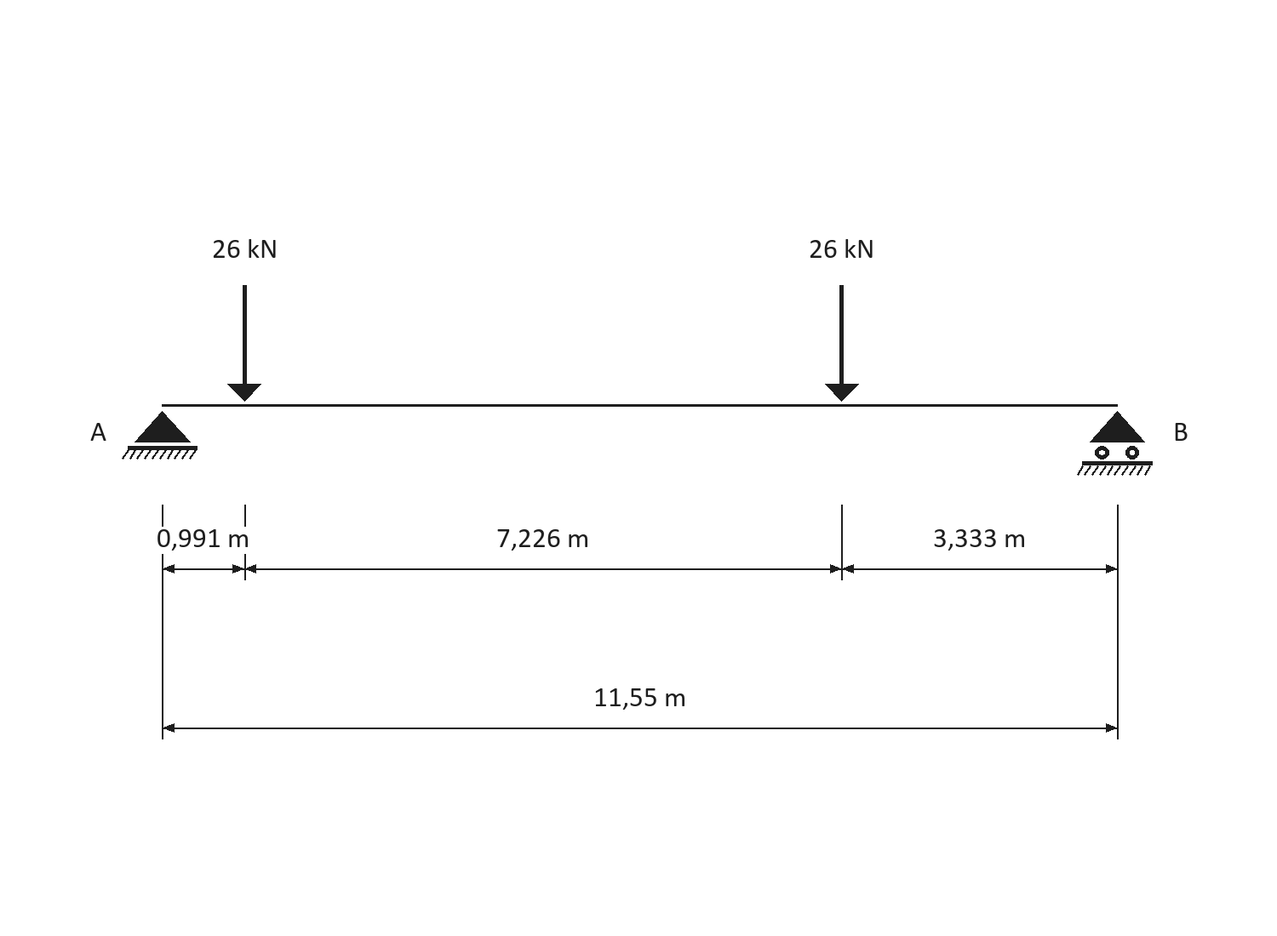pin_support: (122, 411, 198, 459)
point_load: (227, 285, 261, 402), (825, 285, 859, 402)
roller_support: (1077, 411, 1153, 476)
